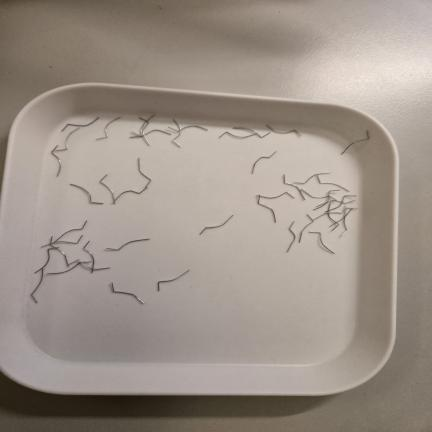probe: (111, 282, 144, 304), (70, 183, 103, 204), (199, 215, 233, 235), (341, 130, 369, 154), (158, 270, 190, 291), (251, 151, 277, 173), (106, 238, 150, 251), (309, 232, 334, 253), (287, 221, 295, 252)
